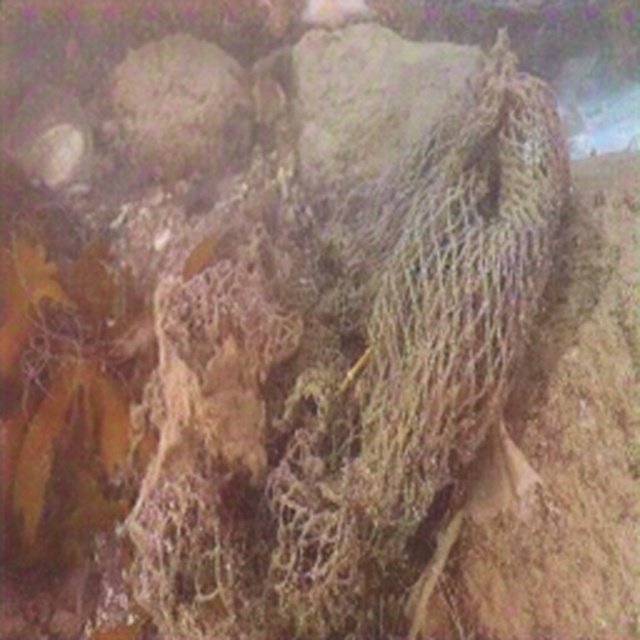mine: (123, 59, 568, 639)
